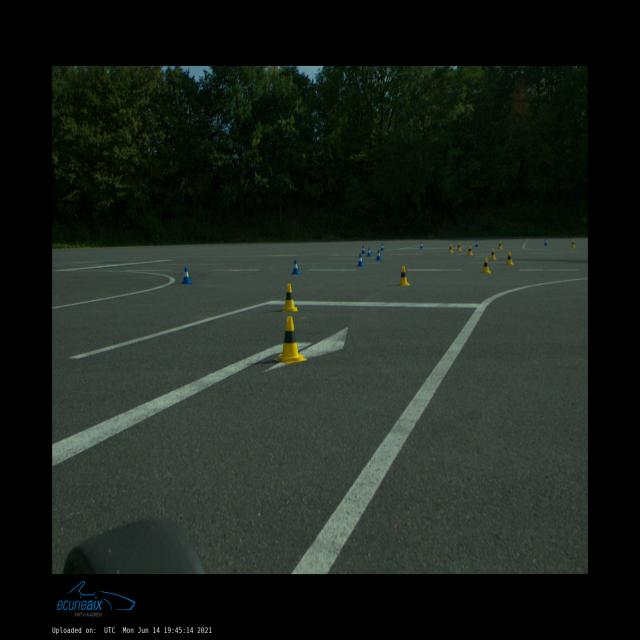blue_cone: (181, 267, 192, 284), (292, 260, 300, 274), (357, 254, 364, 266), (376, 250, 382, 260), (367, 248, 371, 256), (380, 244, 384, 251), (362, 246, 366, 253), (544, 238, 547, 246), (475, 240, 478, 247), (420, 242, 423, 248)
yellow_cone: (275, 316, 307, 364), (281, 284, 298, 312), (398, 266, 411, 286), (481, 258, 491, 273), (506, 252, 514, 265), (467, 245, 473, 256), (491, 248, 496, 260), (570, 239, 576, 249), (448, 244, 454, 253), (457, 243, 462, 251), (498, 241, 502, 249)
